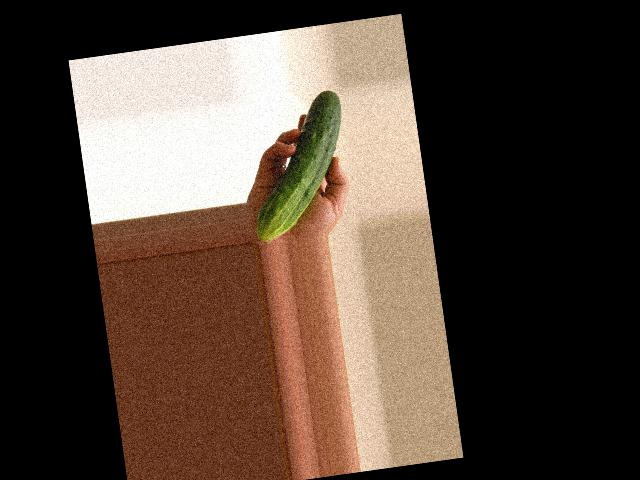cucumber: (238, 89, 356, 242)
